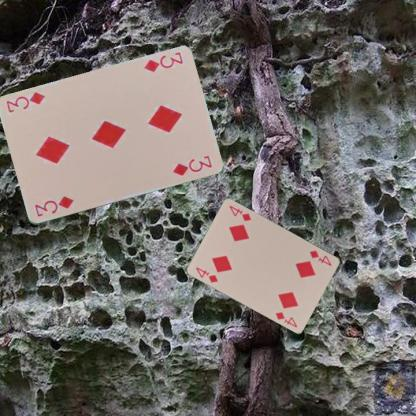3d: (31, 194, 74, 218), (141, 50, 184, 74)
4d: (307, 247, 333, 267), (194, 264, 220, 284)
